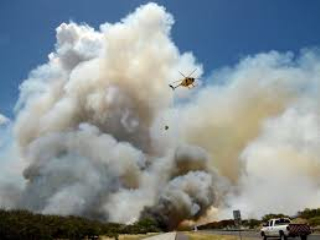smoke: (8, 12, 168, 202), (140, 108, 228, 234)
